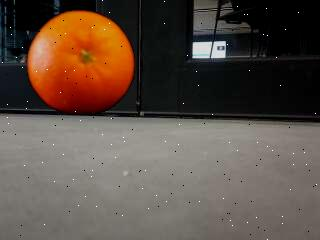Orange: (25, 10, 137, 115)
